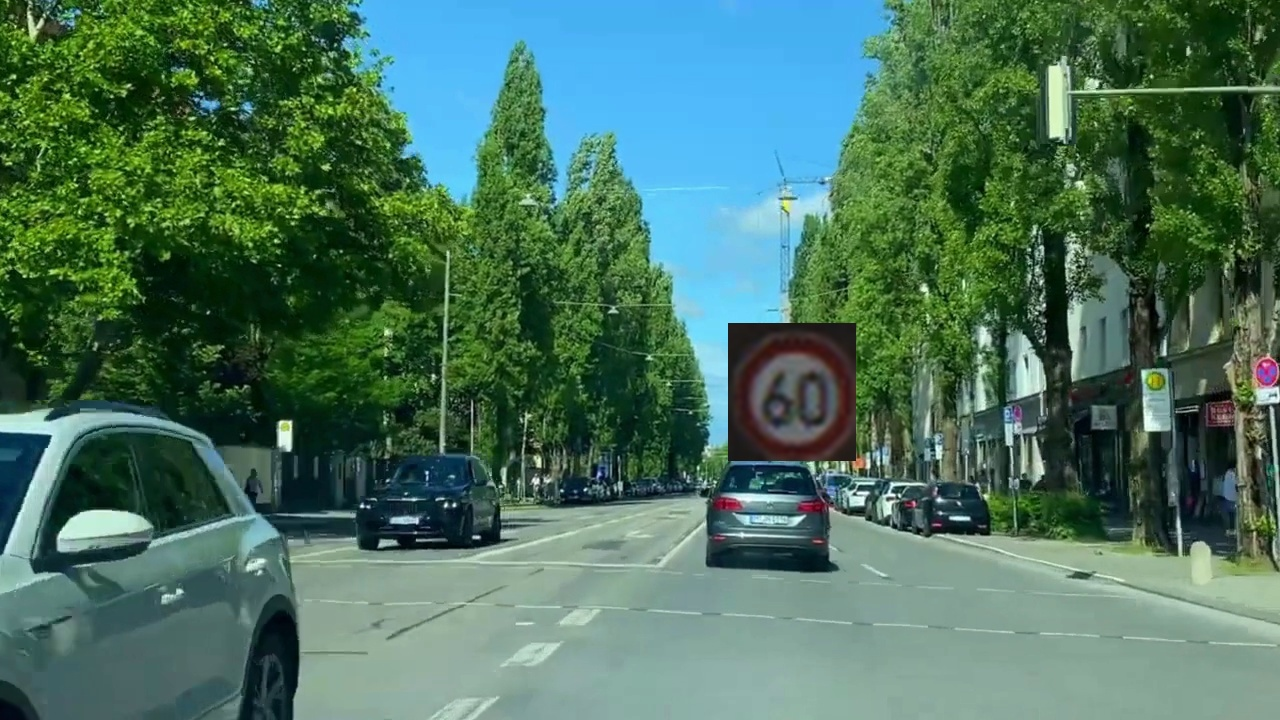Speed 60: (728, 323, 856, 461)
